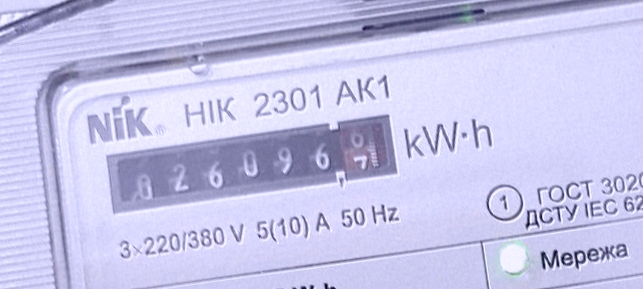0: (237, 143, 261, 181), (131, 167, 155, 201)
2: (166, 158, 192, 195)
6: (203, 155, 227, 192), (309, 136, 332, 171), (345, 121, 367, 150)
7: (350, 150, 371, 173)
9: (273, 141, 296, 176)
screen: (93, 102, 407, 226)
